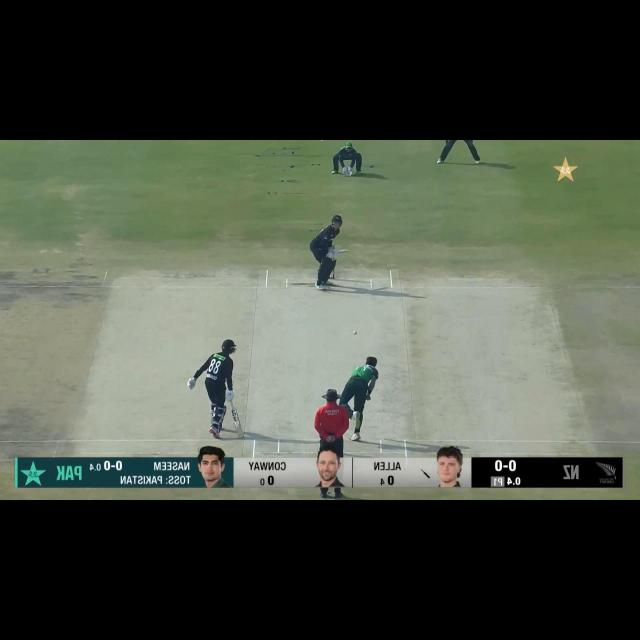bat: (231, 410, 246, 440), (335, 248, 352, 253)
toe: (237, 431, 246, 439), (347, 248, 352, 253)
